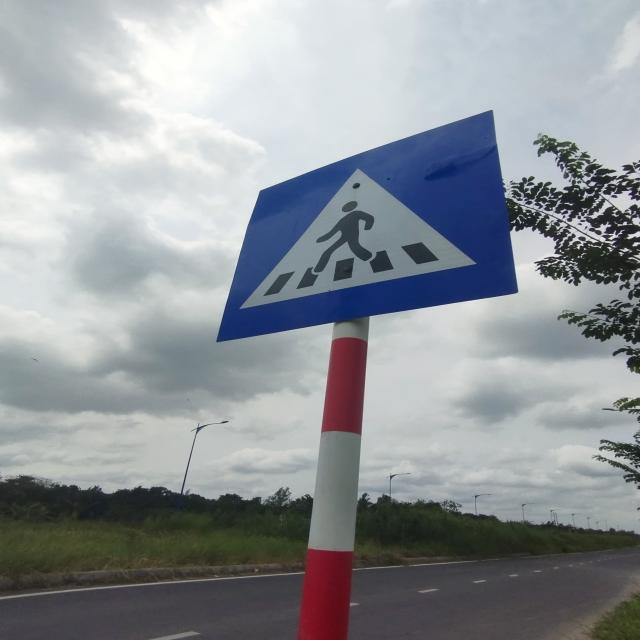Giao_Nhau_Duong_Uu_Tien: (216, 111, 516, 341)
